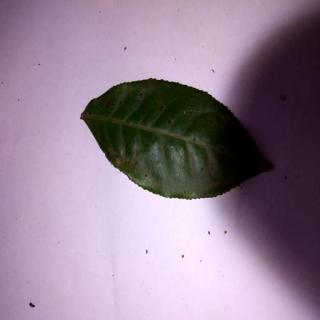Bird Eye Spot: (79, 79, 275, 202)
